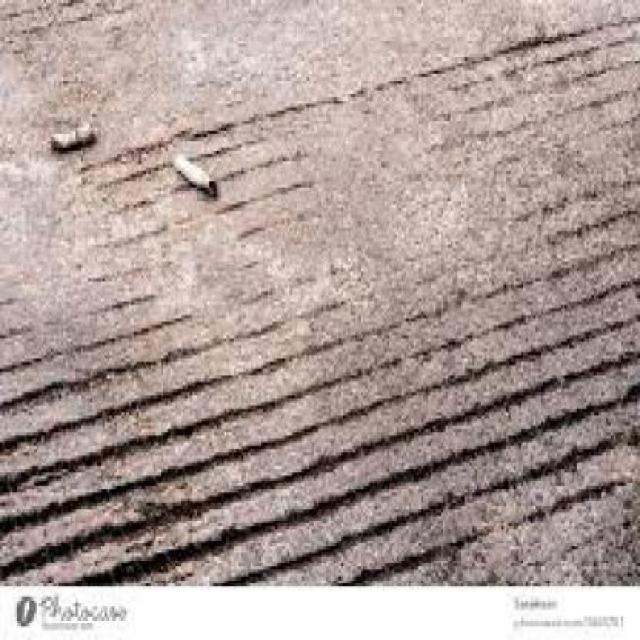cigarette: (166, 138, 246, 235), (43, 114, 105, 161)
